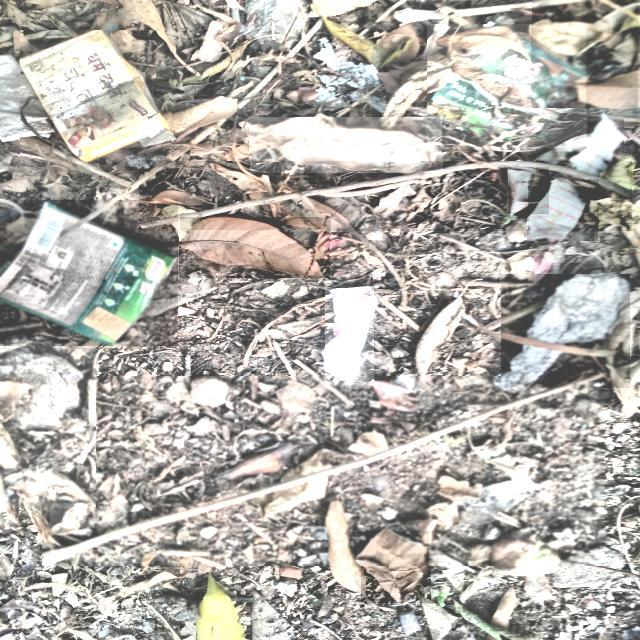anorganik: (0, 200, 178, 346), (428, 25, 586, 148), (501, 275, 630, 387), (536, 116, 624, 177), (527, 182, 597, 241), (509, 169, 549, 215)
organik: (42, 377, 602, 566), (140, 162, 632, 230), (20, 30, 171, 168), (0, 347, 96, 507), (532, 0, 639, 108), (250, 118, 441, 173), (180, 218, 329, 277), (361, 530, 431, 603), (0, 54, 56, 140), (325, 289, 374, 384), (329, 499, 374, 594), (196, 573, 248, 640), (53, 504, 88, 533)
